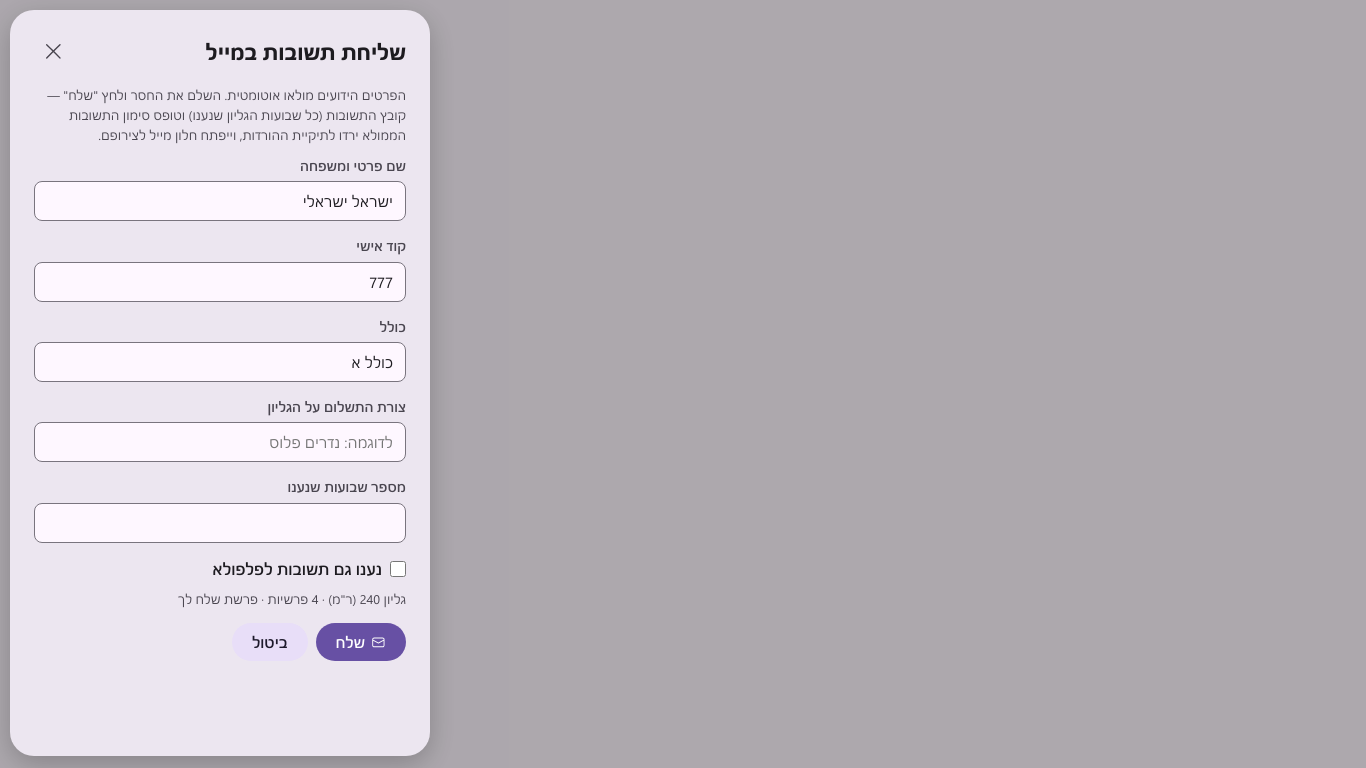
SendDialog — סגירה ונגישות › בזמן שליחה הכפתורים מנוטרלים
Click the button "שלח".
click(361, 642)  # box [316, 624, 406, 662]
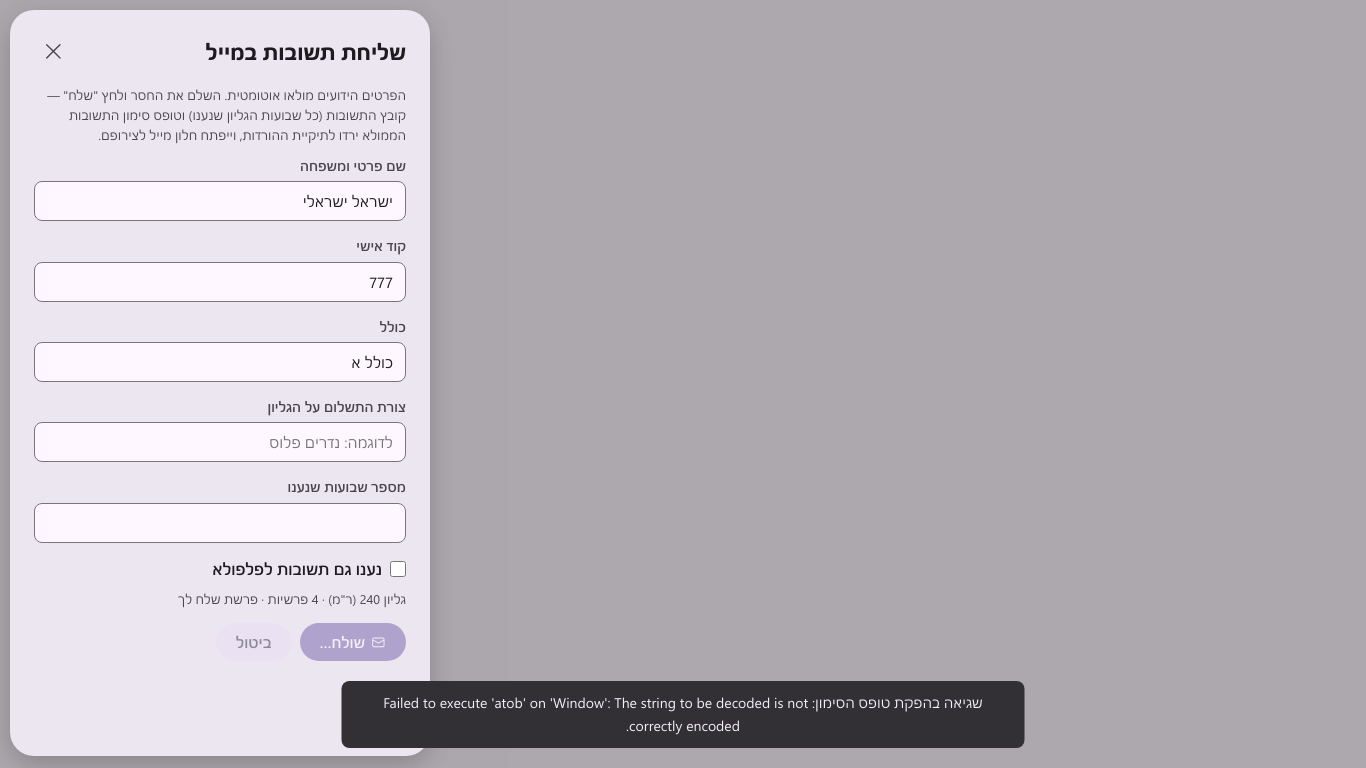
Expected: the button "שולח…" is disabled, [300, 624, 406, 662]
Expected: the button "ביטול" is disabled, [216, 624, 292, 662]
